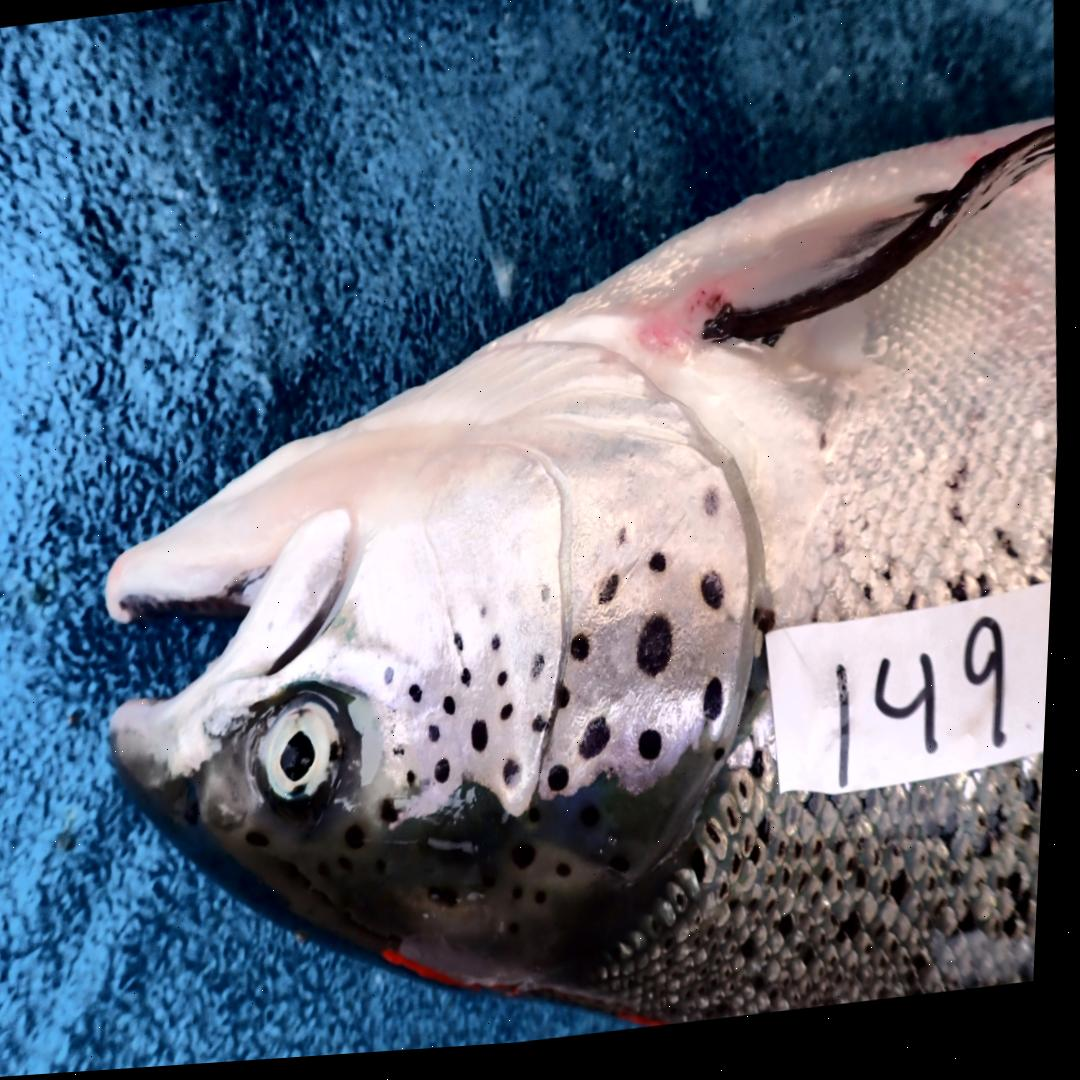spot: (643, 625, 678, 686), (586, 726, 616, 769), (705, 582, 730, 620), (709, 688, 729, 730), (645, 738, 669, 771), (605, 583, 625, 614), (556, 774, 576, 801), (708, 498, 726, 527), (576, 642, 595, 668), (479, 727, 494, 759), (510, 765, 528, 791), (389, 803, 406, 830), (442, 766, 458, 790), (655, 561, 672, 582), (537, 661, 550, 687), (565, 693, 576, 716), (540, 721, 553, 739), (415, 691, 428, 709), (507, 710, 520, 728), (450, 702, 461, 722), (467, 674, 478, 692), (622, 536, 633, 554), (435, 730, 446, 747), (398, 750, 412, 763), (546, 593, 557, 608), (414, 775, 423, 793), (721, 757, 732, 771), (460, 640, 469, 657), (504, 679, 513, 694), (497, 642, 506, 657), (391, 673, 399, 688), (485, 612, 492, 623)
